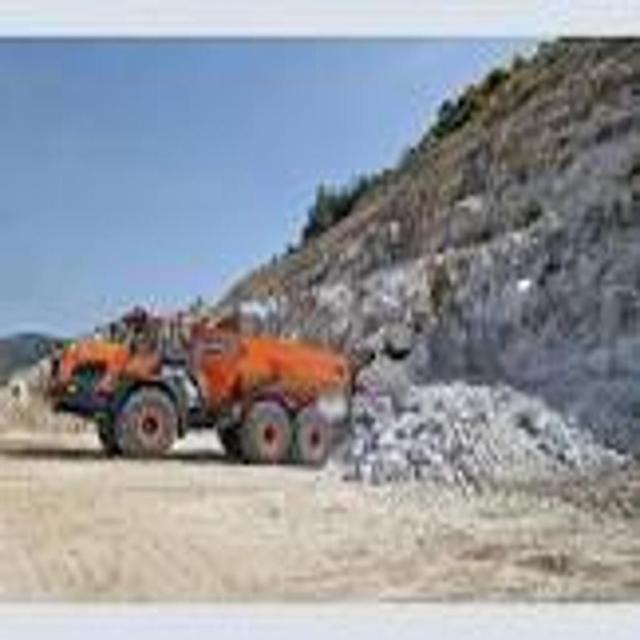dump_truck: (38, 293, 352, 478)
